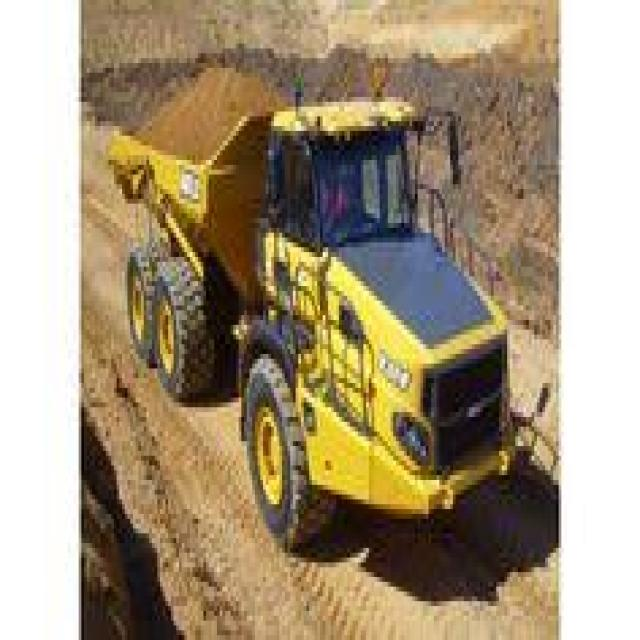dump_truck: (103, 39, 532, 562)
